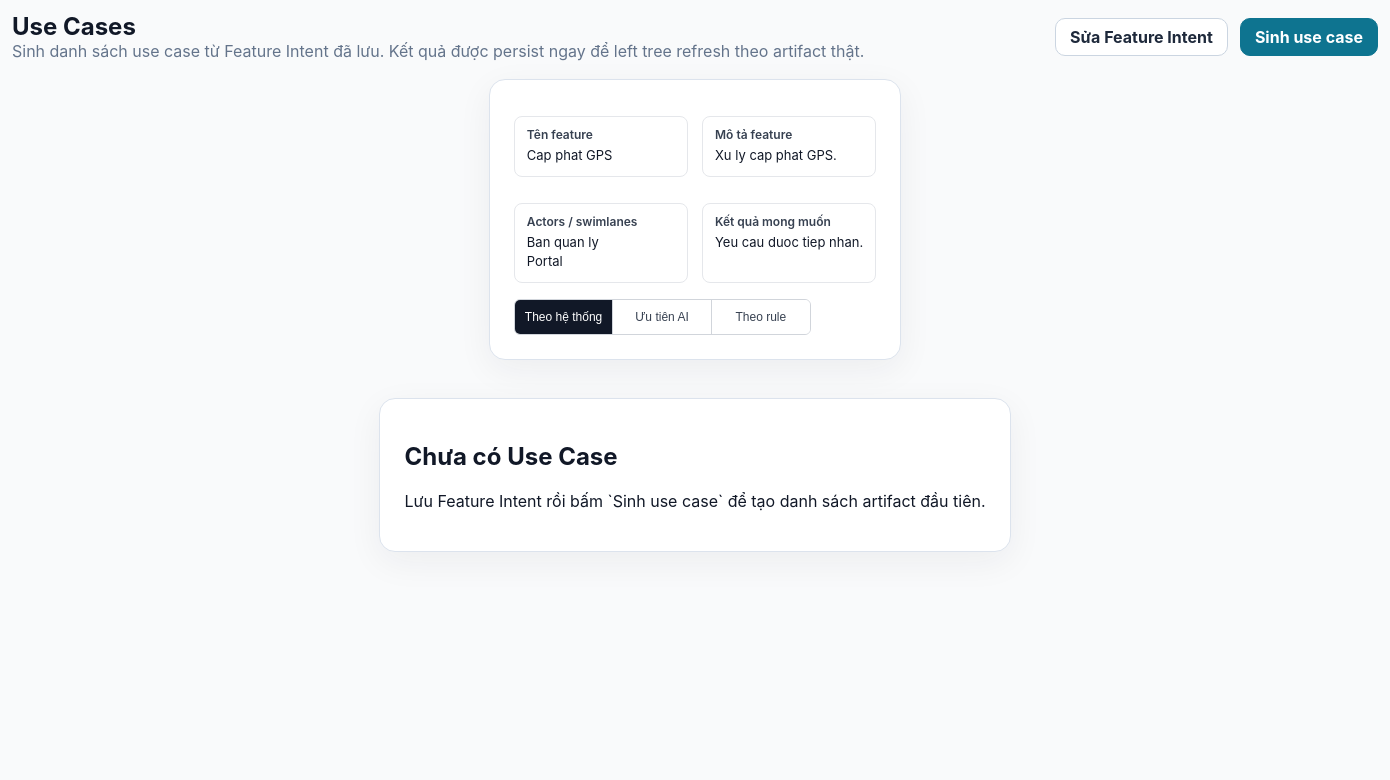
Test: PersistedUseCaseWorkspace › keeps generated drafts visible when persistence fails after generation
Click the button "Sinh use case". click: [1309, 36]
box: [1240,18,1378,56]
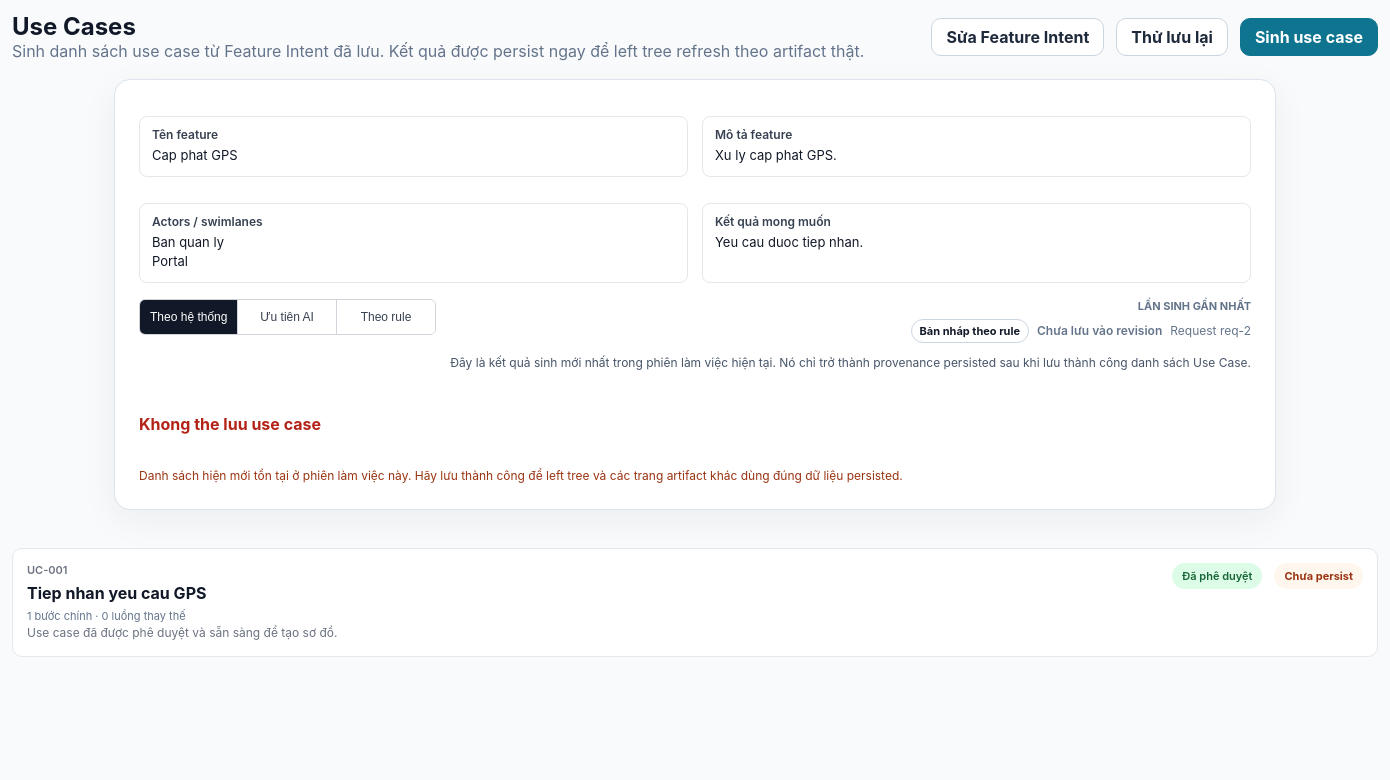
Check: the text "Tiep nhan yeu cau GPS" is shown, box [27,583,206,603]
Check: the text "Chưa lưu vào revision" is shown, box [1037,323,1162,338]
Check: the text "Khong the luu use case" is shown, box [139,414,321,434]
